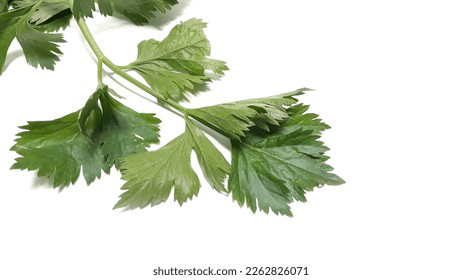Seledri: (40, 33, 364, 229)
